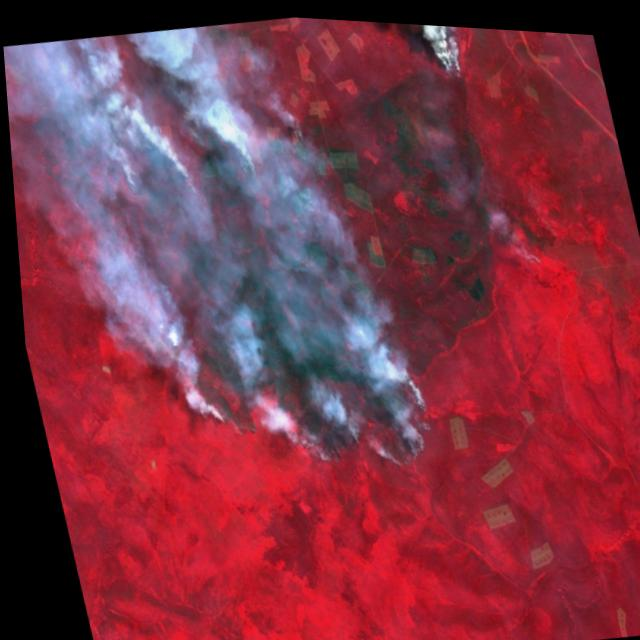fire: (141, 287, 452, 508), (80, 58, 323, 214), (417, 19, 477, 86)
